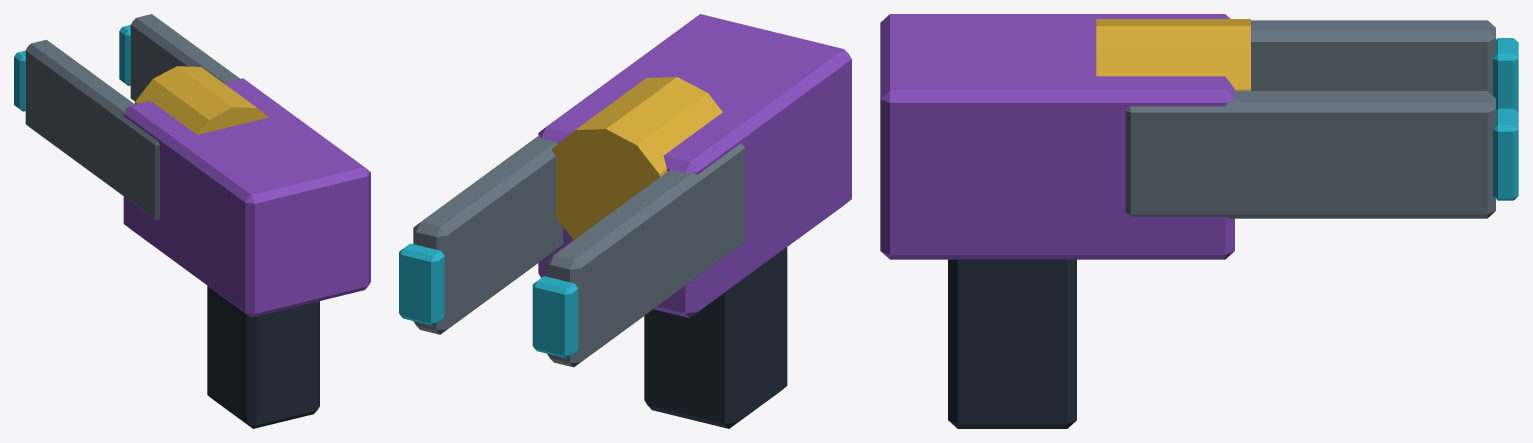
Rendered from disruptor.glb.
3 renders of one model, left to right at view 1: azimuth 30°, elevation 25°; view 2: azimuth 150°, elevation 25°; view 3: azimuth 270°, elevation 25°, orthographic. The views are drawn at different scales.
Parts seen in each view (by area): view 1: disruptor_Body, disruptor_Mechanism; view 2: disruptor_Body, disruptor_Mechanism; view 3: disruptor_Body, disruptor_Mechanism.
Part boxes in pixels (x1,y1,x2,y2): disruptor_Body: (14,14,370,428); disruptor_Mechanism: (134,66,268,134); disruptor_Body: (399,14,851,428); disruptor_Mechanism: (552,77,722,239); disruptor_Body: (880,14,1518,428); disruptor_Mechanism: (1096,19,1250,90).
Bounding box in the file's own units: 0.335 × 0.655 × 0.99.
